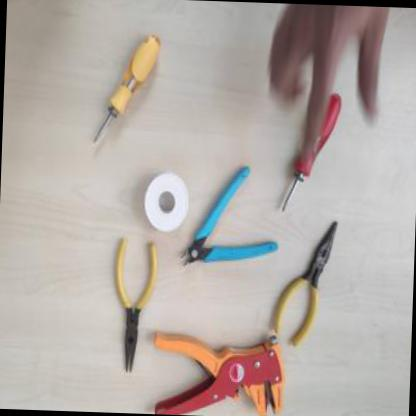Screwdriver: (89, 23, 161, 150), (276, 86, 344, 220)
